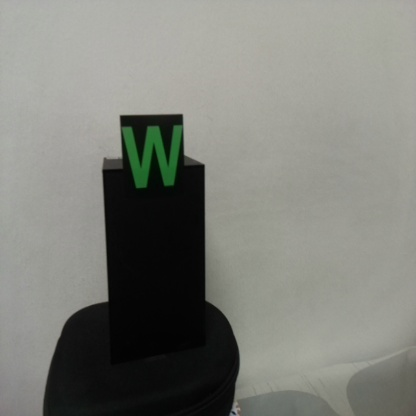id_12: (120, 114, 185, 201)
